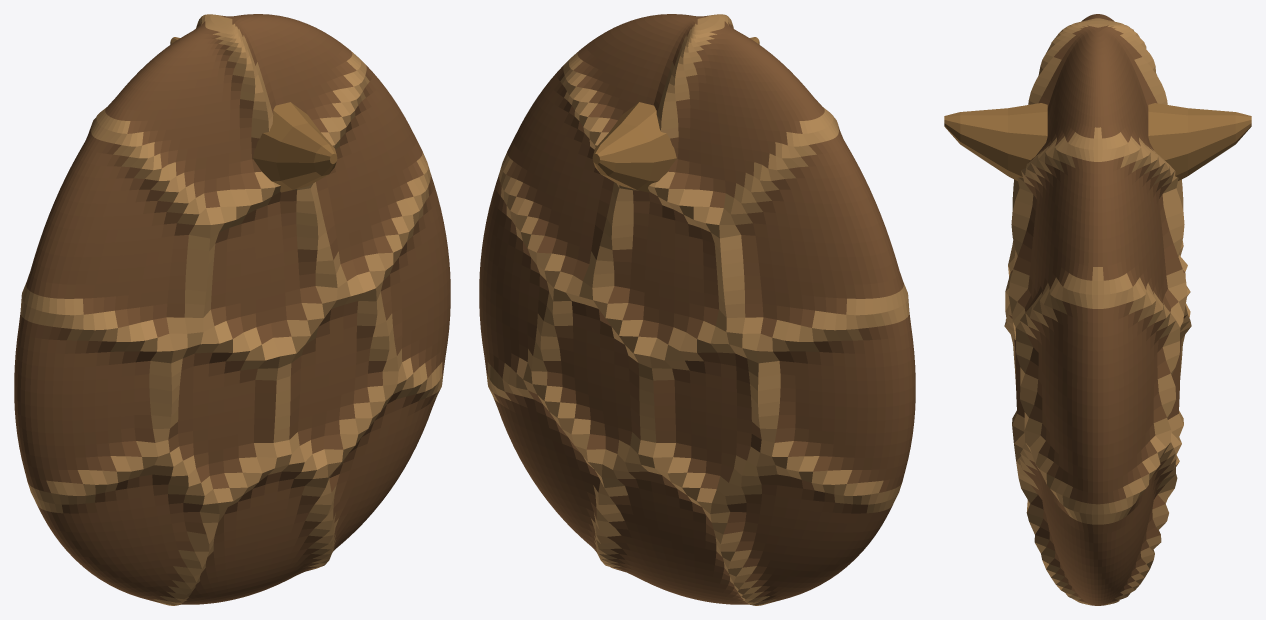
Rendered from iodes-brownii.glb.
The picture shows the model from 3 angles, left to right: view 1: azimuth 30°, elevation 25°; view 2: azimuth 150°, elevation 25°; view 3: azimuth 270°, elevation 25°; orthographic projection. The views are drawn at different scales.
Parts seen in each view (by area): view 1: closed-lenticular-reticulate-endocarp, front-subapical-face-horn; view 2: closed-lenticular-reticulate-endocarp, rear-subapical-face-horn; view 3: closed-lenticular-reticulate-endocarp, front-subapical-face-horn, rear-subapical-face-horn.
Boxes of the visible parts, x1,y1,x2,y2 form: closed-lenticular-reticulate-endocarp: (14,14,450,605); front-subapical-face-horn: (253,102,337,192); closed-lenticular-reticulate-endocarp: (479,14,915,605); rear-subapical-face-horn: (592,102,676,192); closed-lenticular-reticulate-endocarp: (1004,14,1191,605); front-subapical-face-horn: (944,103,1047,180); rear-subapical-face-horn: (1148,103,1251,180).
Bounding box in the file's own units: 0.007 × 0.009 × 0.0045.
